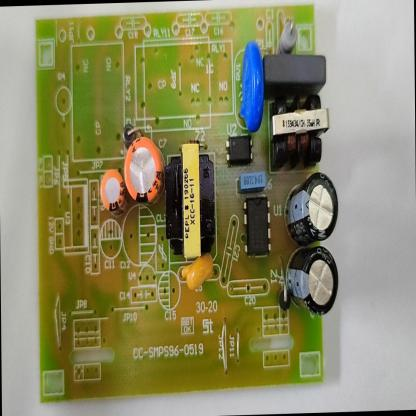Cap1: (122, 131, 165, 212)
Cap2: (100, 165, 126, 223)
Cap3: (286, 166, 344, 248)
Cap4: (284, 242, 340, 322)
MOSFET: (242, 194, 273, 260)
Mov: (240, 37, 266, 136)
Resistor: (275, 16, 299, 56)
Transformer: (165, 139, 218, 261), (269, 97, 332, 166)
